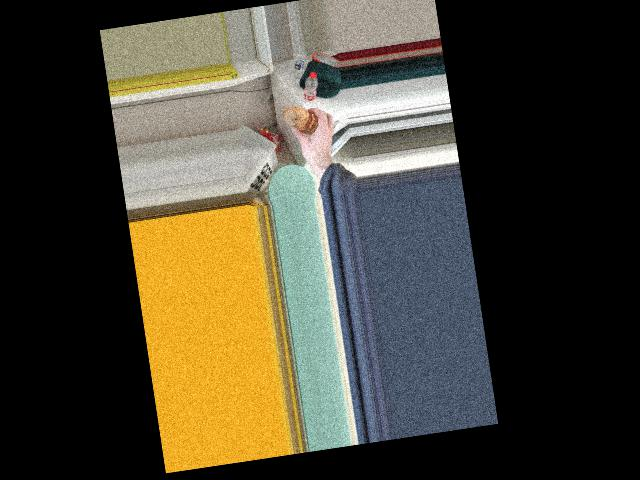sweet_potato: (282, 101, 317, 137)
